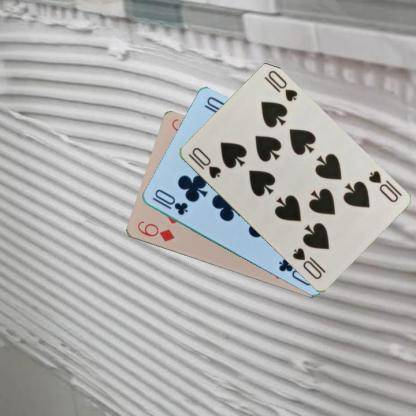10c: (149, 186, 190, 216)
10s: (185, 144, 222, 180), (365, 168, 399, 204)
6d: (134, 219, 176, 244)
